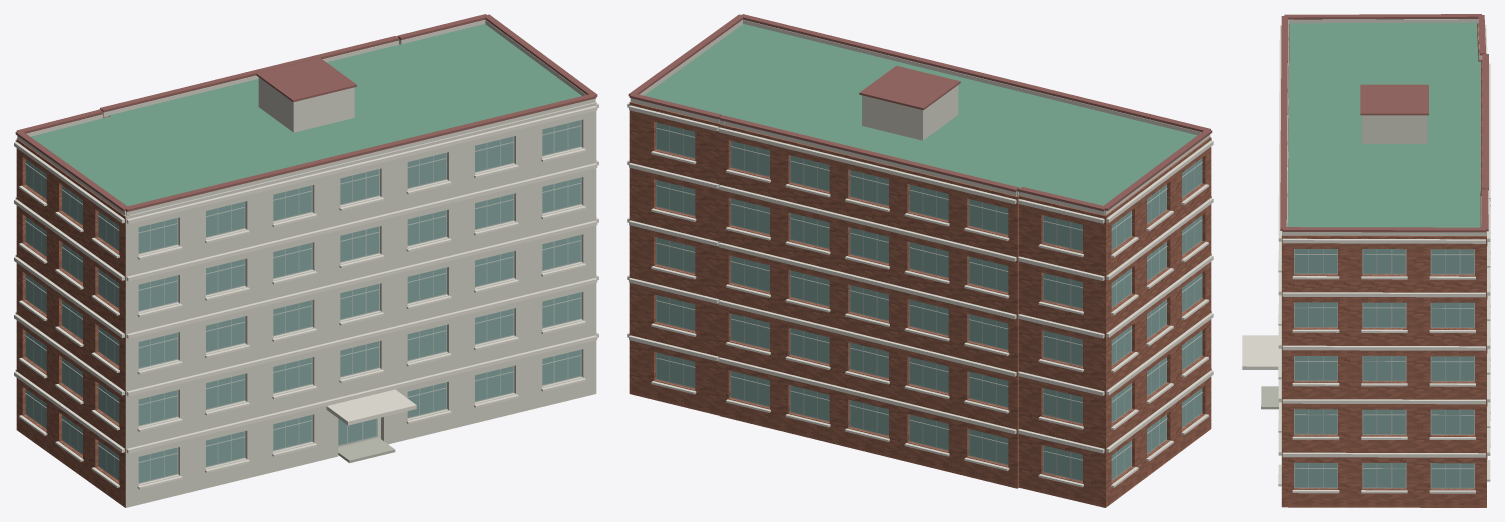
3 views of the same model, side by side, from view 1: azimuth 30°, elevation 25°; view 2: azimuth 150°, elevation 25°; view 3: azimuth 270°, elevation 25° (orthographic). The views are drawn at different scales.
Parts seen in each view (by area): view 1: annex__wall, annex__glass, annex__roof, annex__trim, annex__brick, annex__frame, annex__roofrim, annex__threshold; view 2: annex__brick, annex__glass, annex__roof, annex__trim, annex__roofrim, annex__frame, annex__wall; view 3: annex__roof, annex__brick, annex__glass, annex__trim, annex__roofrim, annex__wall, annex__frame, annex__threshold.
Boxes of the visible parts, box(x1,y1,x2,y2) form: annex__wall: box(17, 19, 596, 507); annex__glass: box(26, 120, 580, 482); annex__roof: box(30, 24, 581, 206); annex__trim: box(14, 102, 598, 489); annex__brick: box(16, 43, 596, 507); annex__frame: box(25, 120, 581, 483); annex__roofrim: box(15, 14, 597, 211); annex__threshold: box(338, 438, 395, 463); annex__brick: box(629, 101, 1211, 507); annex__glass: box(656, 122, 1201, 480); annex__roof: box(644, 24, 1197, 205); annex__trim: box(627, 102, 1213, 487); annex__roofrim: box(628, 14, 1212, 211); annex__frame: box(656, 122, 1202, 481); annex__wall: box(630, 19, 1210, 215); annex__roof: box(1288, 22, 1480, 227); annex__brick: box(1282, 23, 1487, 507); annex__glass: box(1295, 249, 1473, 487); annex__trim: box(1242, 24, 1490, 493); annex__roofrim: box(1280, 14, 1488, 232); annex__wall: box(1281, 19, 1486, 506); annex__frame: box(1294, 249, 1474, 488); annex__threshold: box(1261, 386, 1278, 409).
Size of the model in its own units: 31.45 by 20.47 by 15.16.
9 materials, 1 textured.
